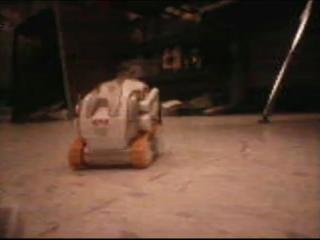cozmo: (67, 61, 164, 170)
